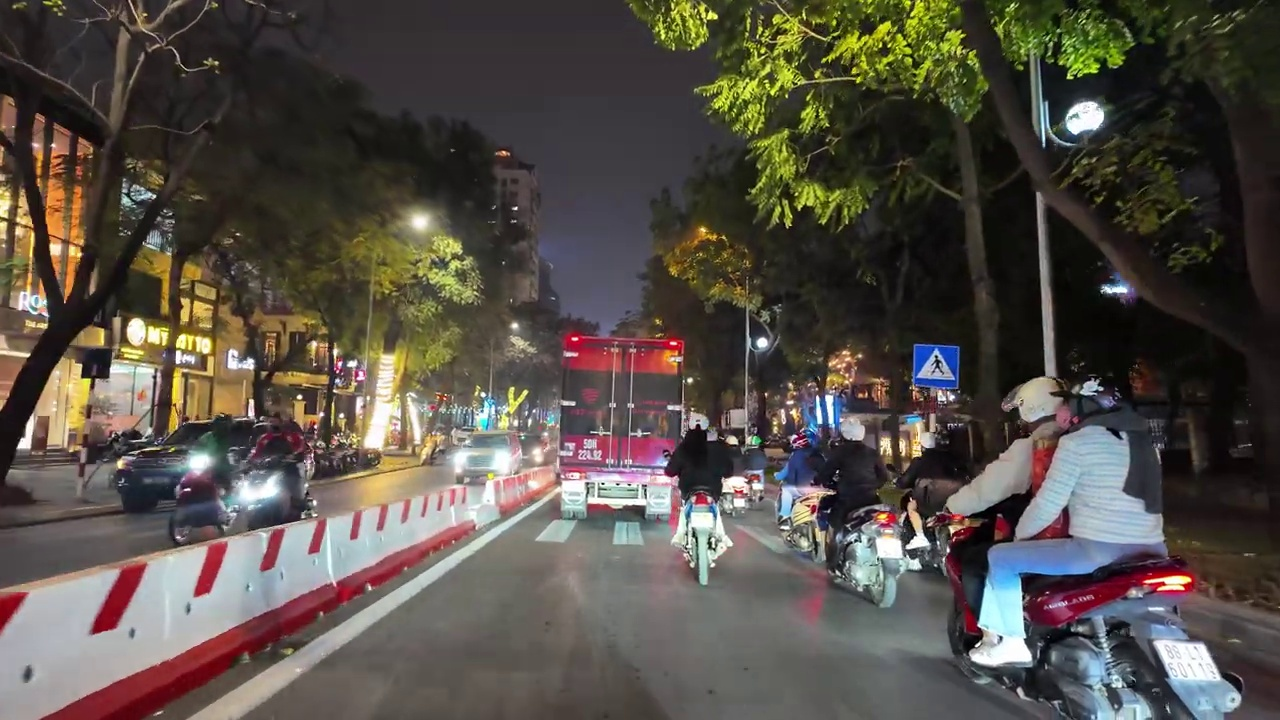acesa: (403, 209, 434, 235)
